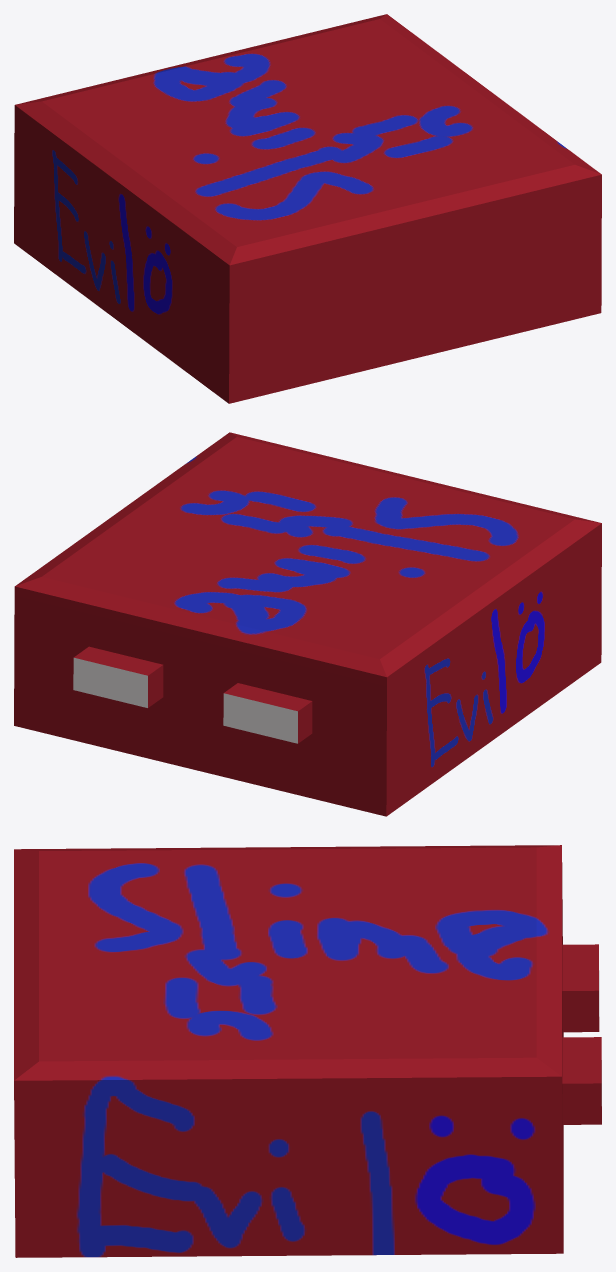
Rendered from SlimeButEpicWarning 1.fbx.
The picture shows the model from 3 angles, top to bottom: view 1: azimuth 30°, elevation 25°; view 2: azimuth 150°, elevation 25°; view 3: azimuth 270°, elevation 25°; orthographic projection. The views are drawn at different scales.
Parts seen in each view (by area): view 1: Slime; view 2: Slime; view 3: Slime.
Part boxes in pixels (box(x1,y1,x2,y2)): Slime: box(14, 14, 601, 403); Slime: box(14, 432, 601, 816); Slime: box(14, 845, 601, 1257).
Bounding box in the file's own units: 200 × 76.26 × 215.
Materials: 2 (1 with a texture image).
